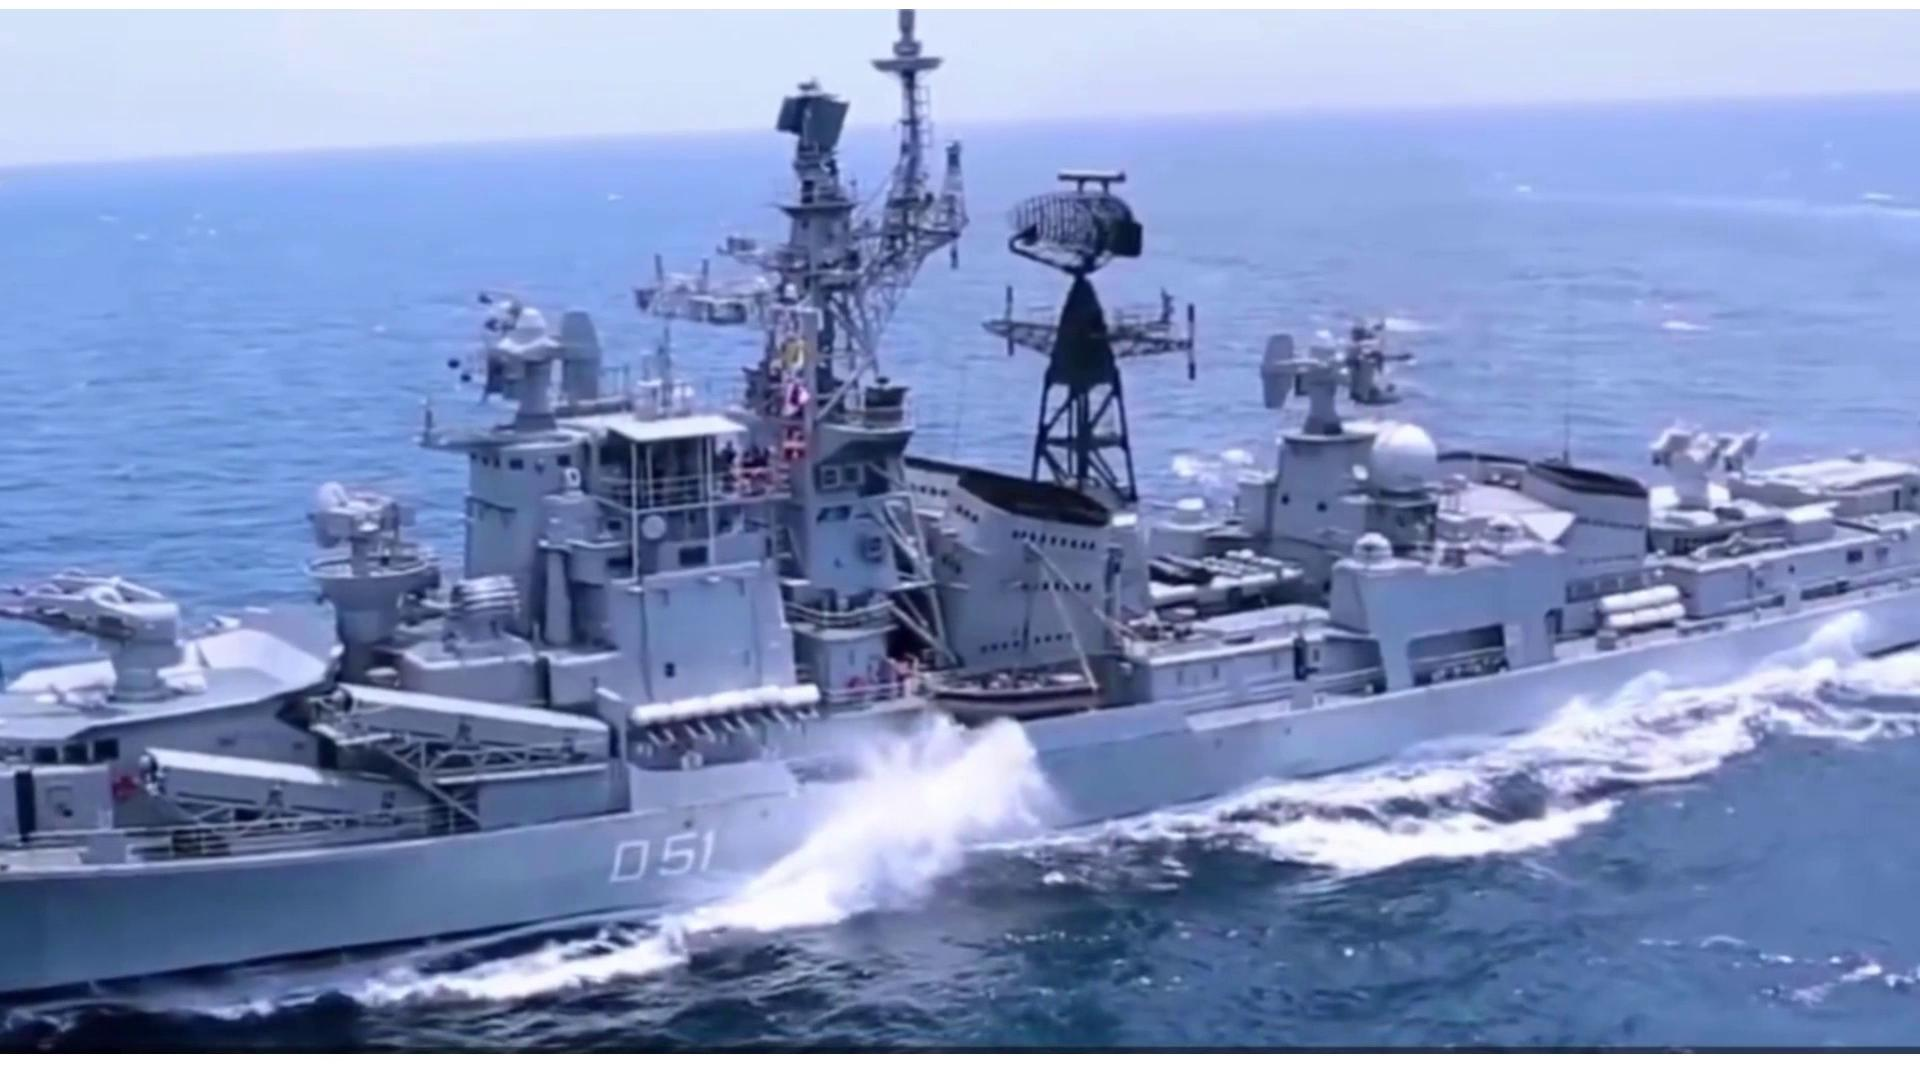OCR: (575, 812, 727, 898)
